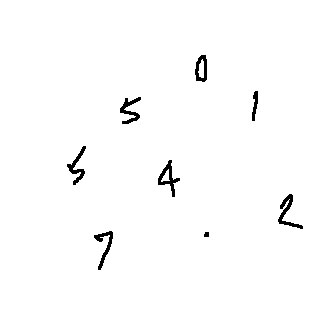.: (200, 225, 216, 242)
0: (191, 52, 212, 85)
1: (248, 87, 268, 129)
2: (271, 183, 311, 233)
4: (151, 154, 185, 206)
5: (110, 89, 150, 131), (65, 143, 91, 190)
7: (88, 226, 127, 274)
